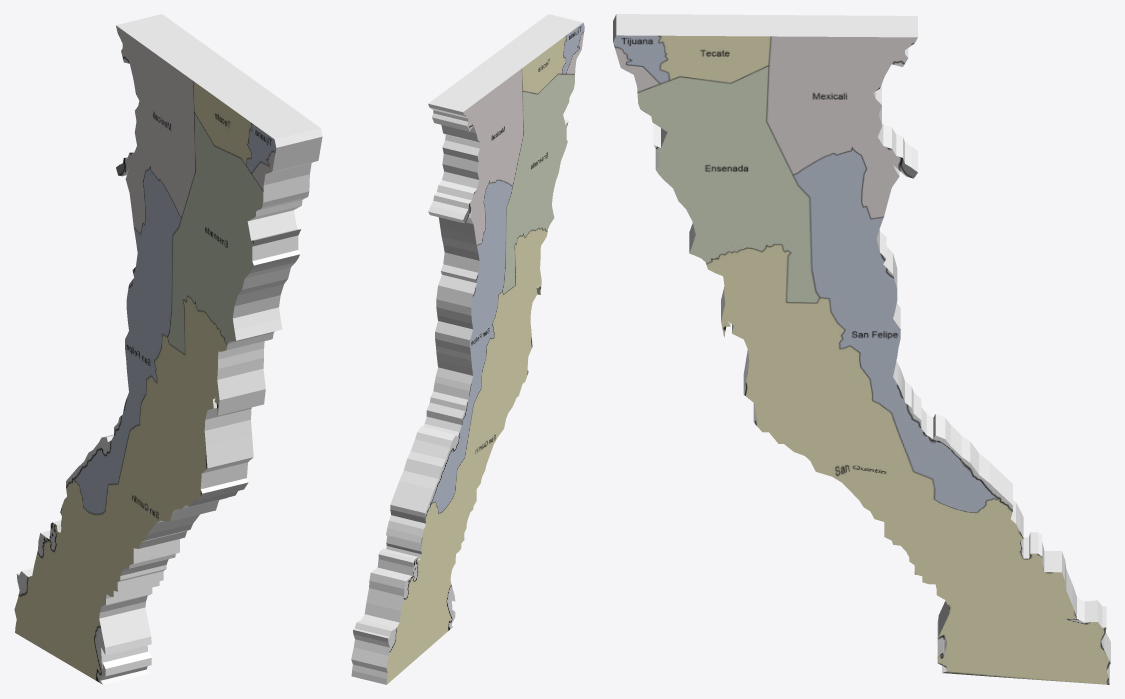
Rendered from baja_california.glb.
The picture shows the model from 3 angles, left to right: view 1: azimuth 30°, elevation 25°; view 2: azimuth 150°, elevation 25°; view 3: azimuth 270°, elevation 25°; orthographic projection. The views are drawn at different scales.
Visible parts, largest first — view 1: Plano; view 2: Plano; view 3: Plano.
Boxes of the visible parts, bbox=[...] form: Plano: bbox=[14, 14, 322, 684]; Plano: bbox=[351, 14, 584, 684]; Plano: bbox=[613, 14, 1110, 684].
Bounding box in the file's own units: 0.1559 × 2.2 × 1.53.
Materials: 1 (1 with a texture image).
